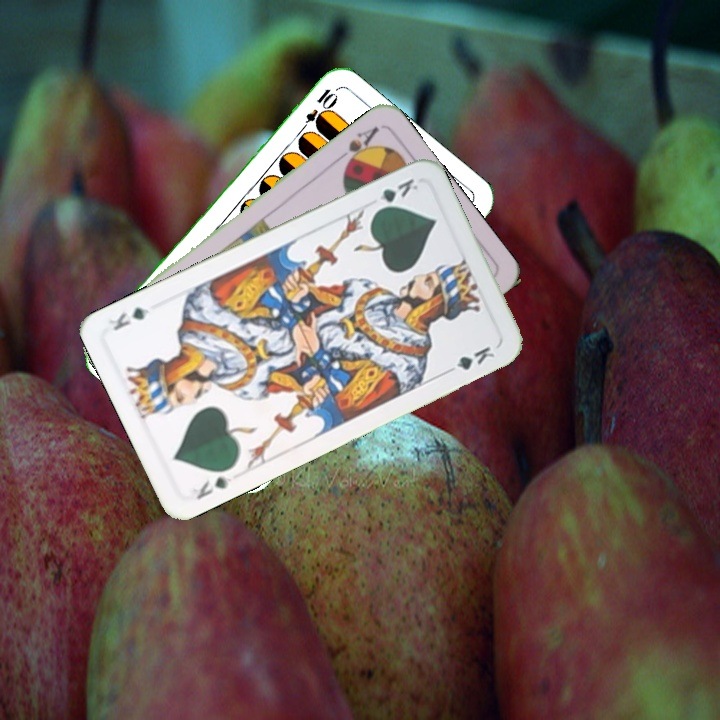E10: (295, 84, 338, 137)
GK: (370, 174, 421, 215), (192, 472, 235, 502)
SA: (332, 122, 382, 172)
